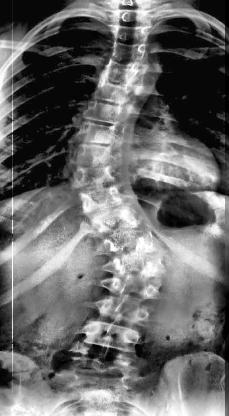Vertebrae: (86, 318, 140, 352), (97, 293, 154, 325), (89, 204, 144, 232), (109, 251, 165, 278), (105, 274, 163, 300), (106, 228, 158, 257), (76, 186, 132, 212), (72, 166, 122, 188), (82, 101, 126, 124), (78, 120, 119, 144), (102, 60, 142, 84), (76, 144, 119, 166), (108, 42, 150, 64), (96, 82, 134, 106), (114, 26, 155, 44)
